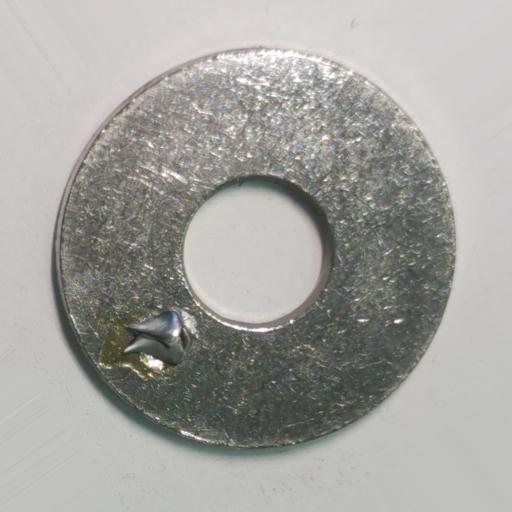excess_material: (122, 308, 194, 365)
